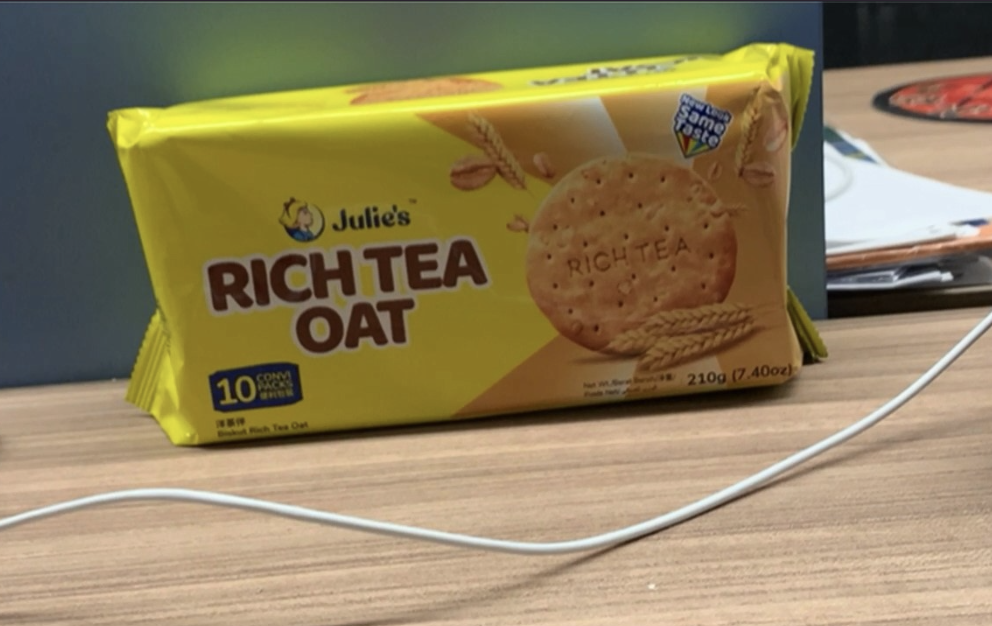cookies_200g-299g: (171, 118, 784, 385)
